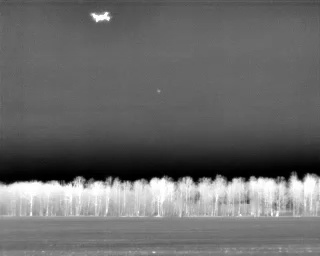DRONE: (87, 7, 115, 28)
